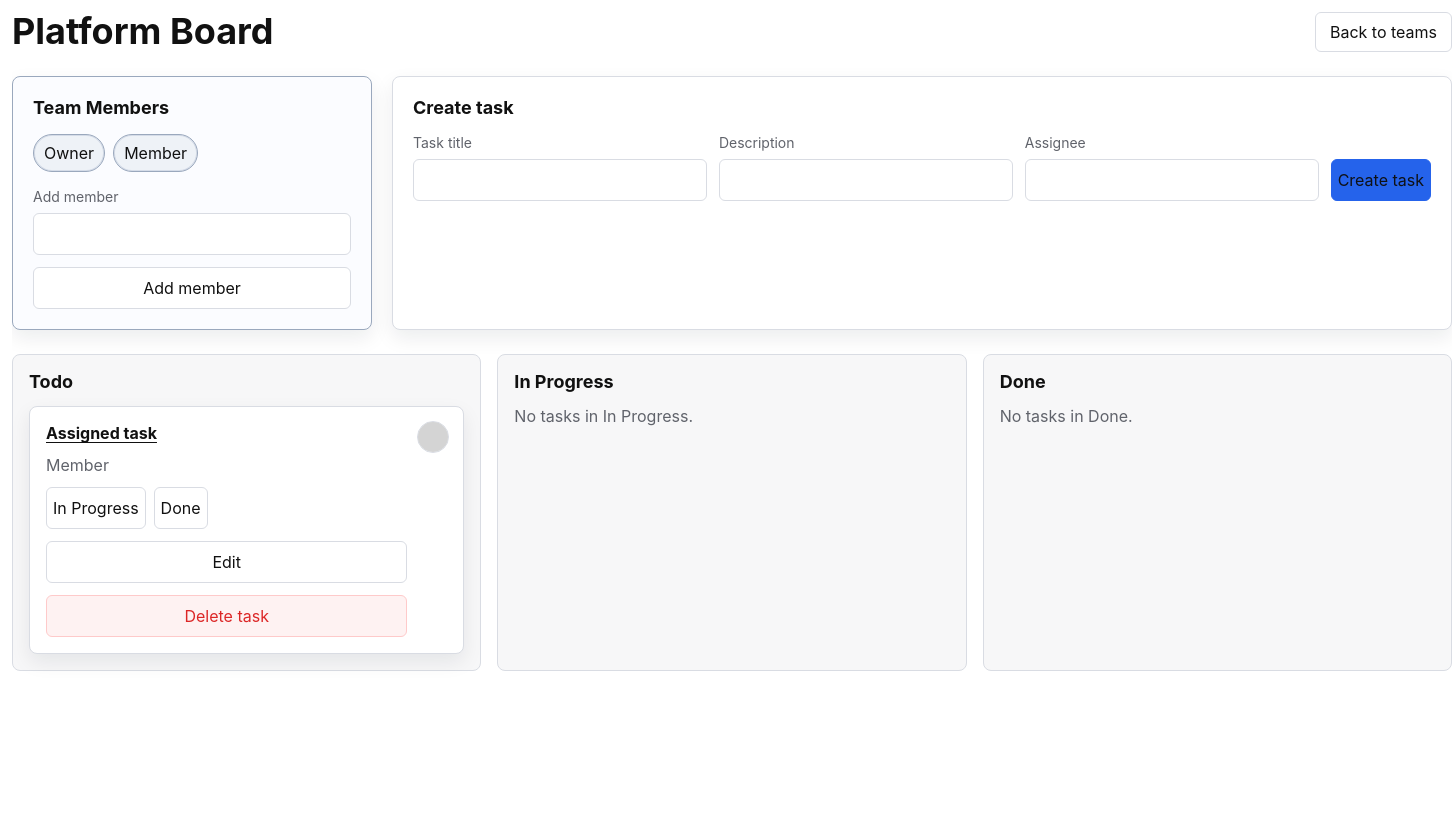
Test: a team owner can remove a member from the board popover
Expected: the link "Assigned task" is shown, [46,423,157,443]
Click the button with aria-label "Manage Member": click(156, 153) [113,134,198,172]
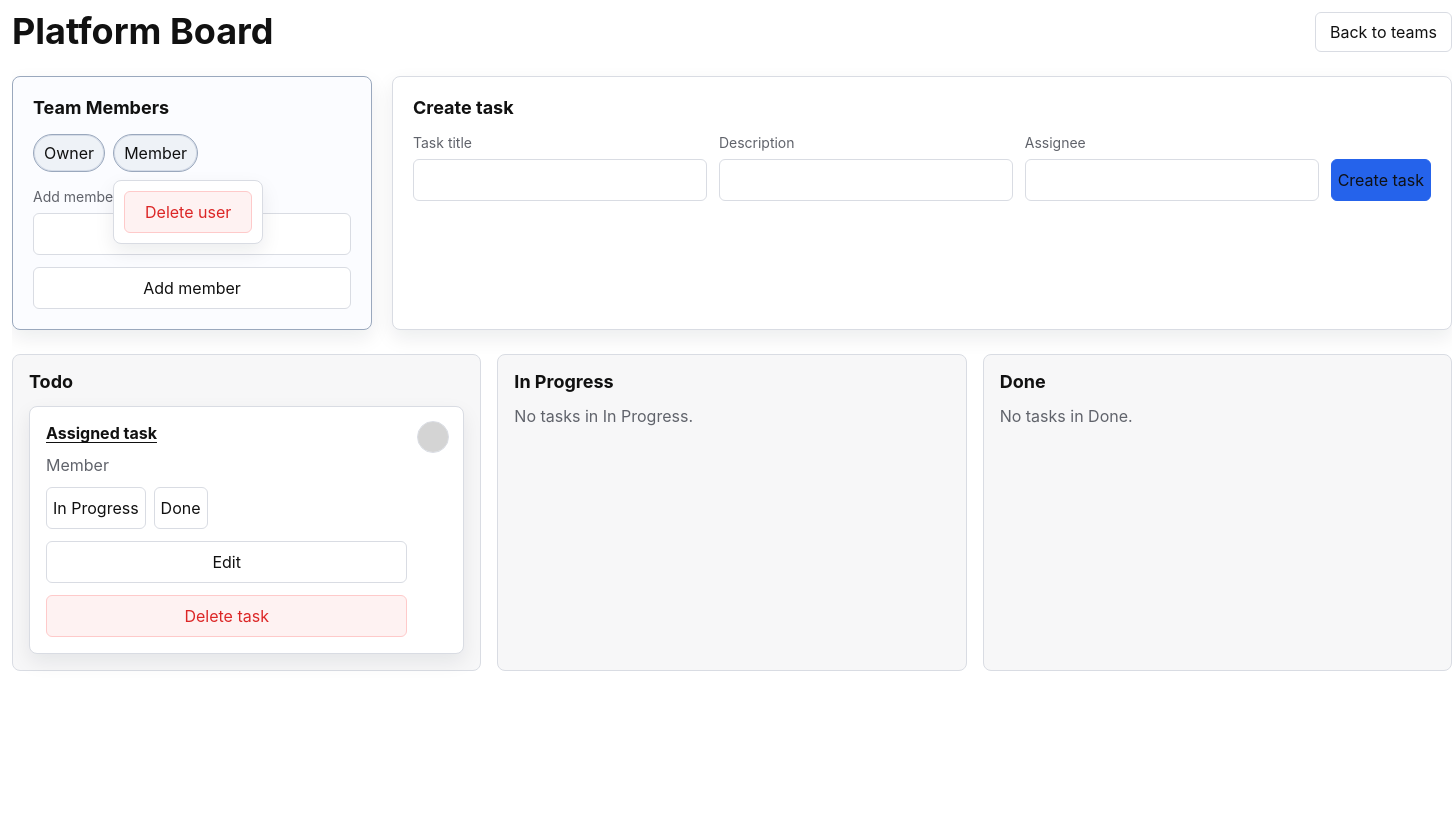
Click the button "Delete user": click(188, 212) [124,191,252,233]
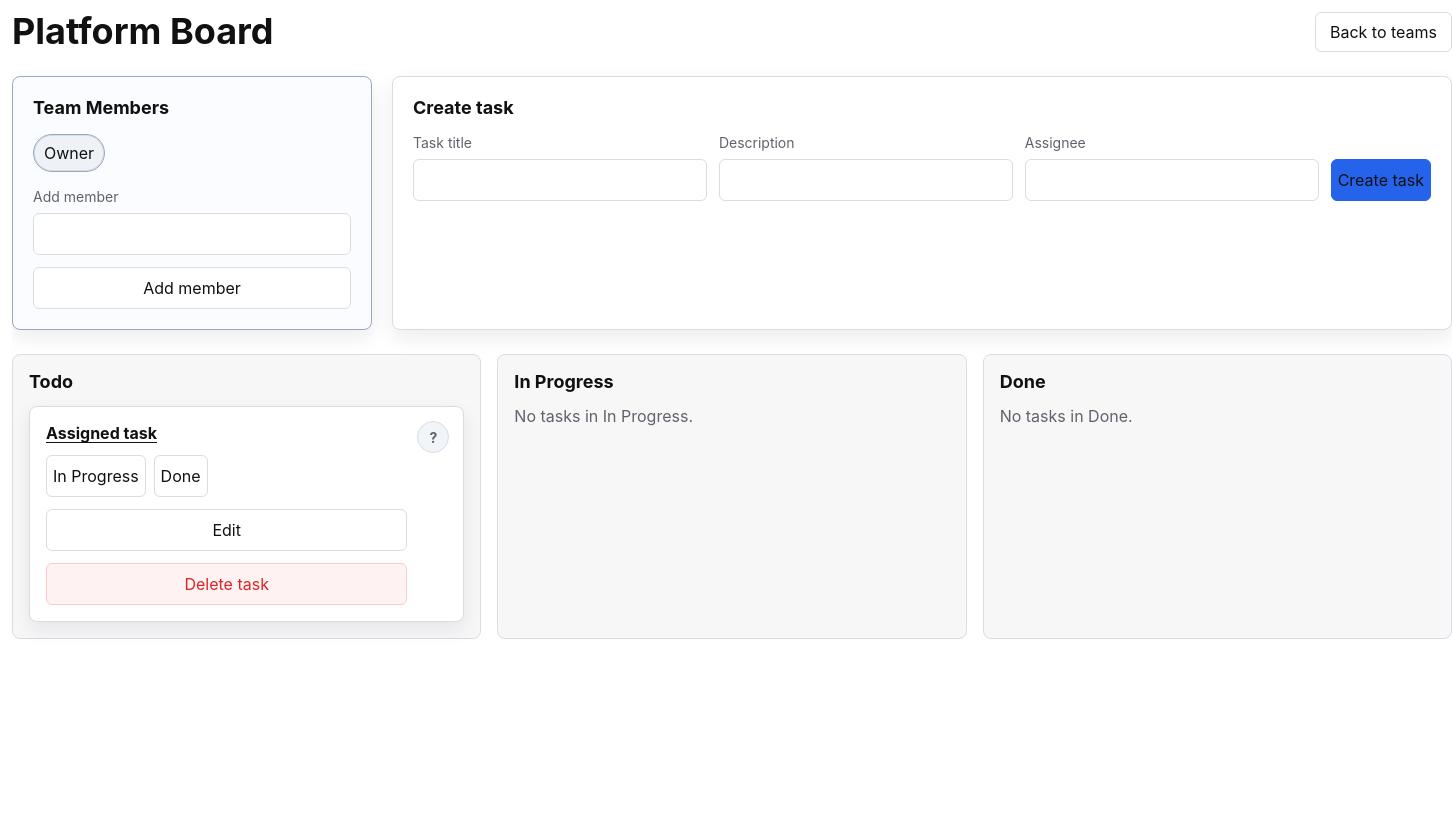
Expected: the text named "Unassigned" is shown, [417,421,449,453]
